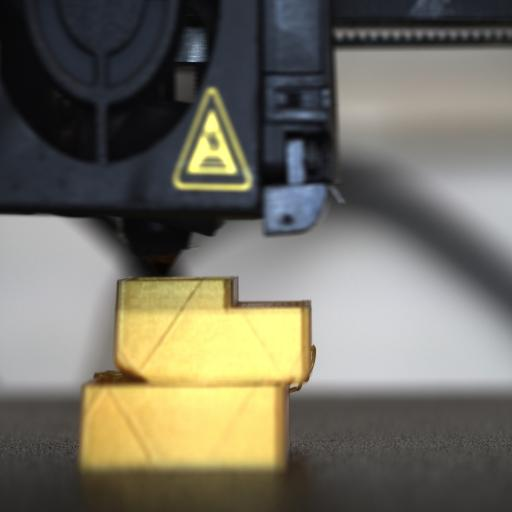layer_shift: (80, 359, 312, 396)
